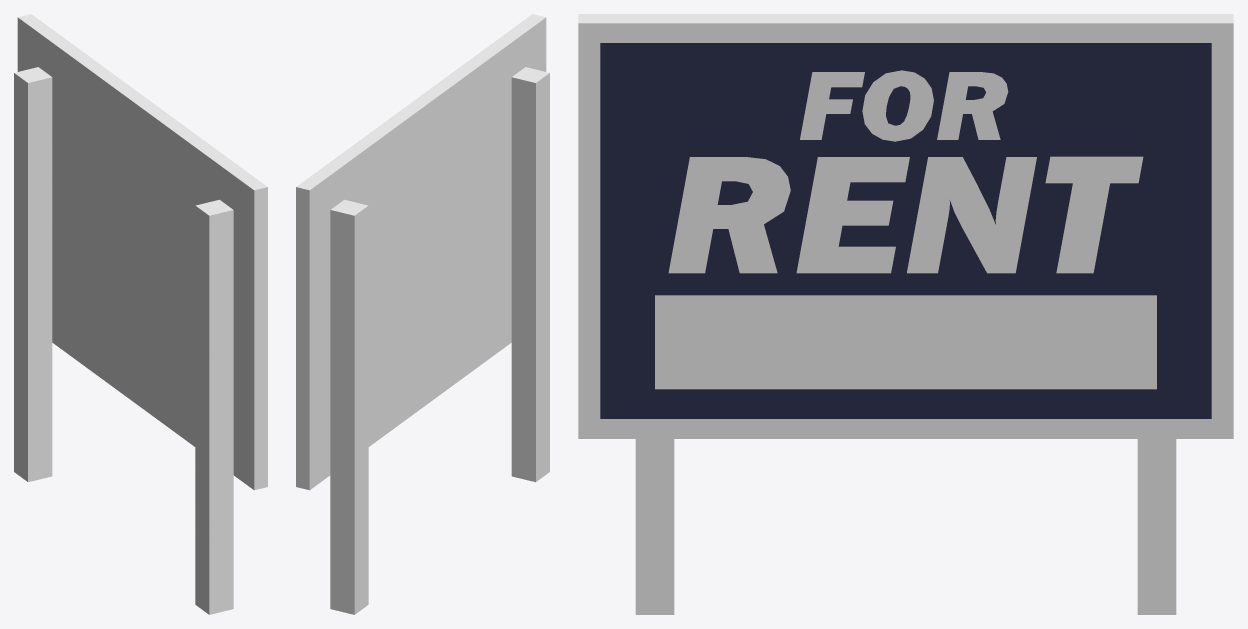
The model's file is SM_billboard_forRent_standing.gltf.
3 views of the same model, side by side, from view 1: azimuth 30°, elevation 25°; view 2: azimuth 150°, elevation 25°; view 3: azimuth 270°, elevation 25° (orthographic). The views are drawn at different scales.
Visible parts, largest first — view 1: SM_billboard_forRent_standing; view 2: SM_billboard_forRent_standing; view 3: SM_billboard_forRent_standing.
Part boxes in pixels (x1,y1,x2,y2): SM_billboard_forRent_standing: (14, 14, 267, 614); SM_billboard_forRent_standing: (296, 14, 549, 614); SM_billboard_forRent_standing: (578, 14, 1233, 614).
Bounding box in the file's own units: 0.2155 × 2.28 × 2.25.
1 material, 1 textured.
